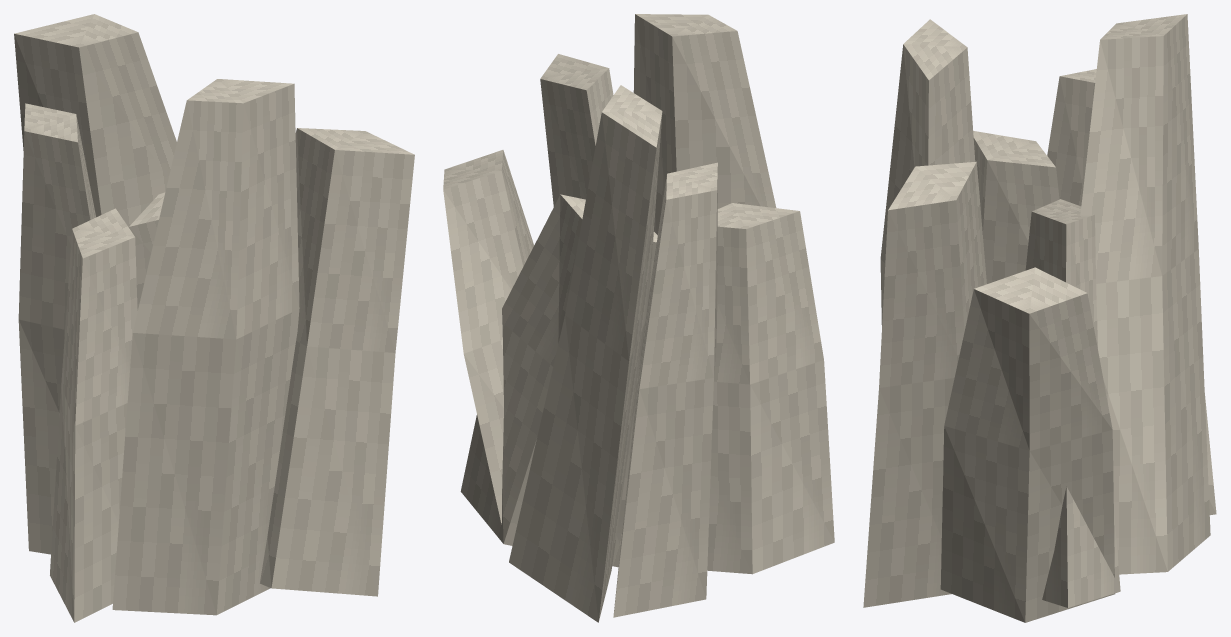
File: cave-and-crystal-networks-calcite-spar-bb95e3ae.glb
3 renders of one model, left to right at view 1: azimuth 30°, elevation 25°; view 2: azimuth 150°, elevation 25°; view 3: azimuth 270°, elevation 25°, orthographic. The views are drawn at different scales.
Parts seen in each view (by area): view 1: calcite-spar; view 2: calcite-spar; view 3: calcite-spar.
Part boxes in pixels (<box>): calcite-spar: <box>14,14,414,622</box>; calcite-spar: <box>443,14,834,622</box>; calcite-spar: <box>863,14,1216,622</box>.
Bounding box in the file's own units: 0.7588 × 1.05 × 0.6409.
Materials: 1 (1 with a texture image).
